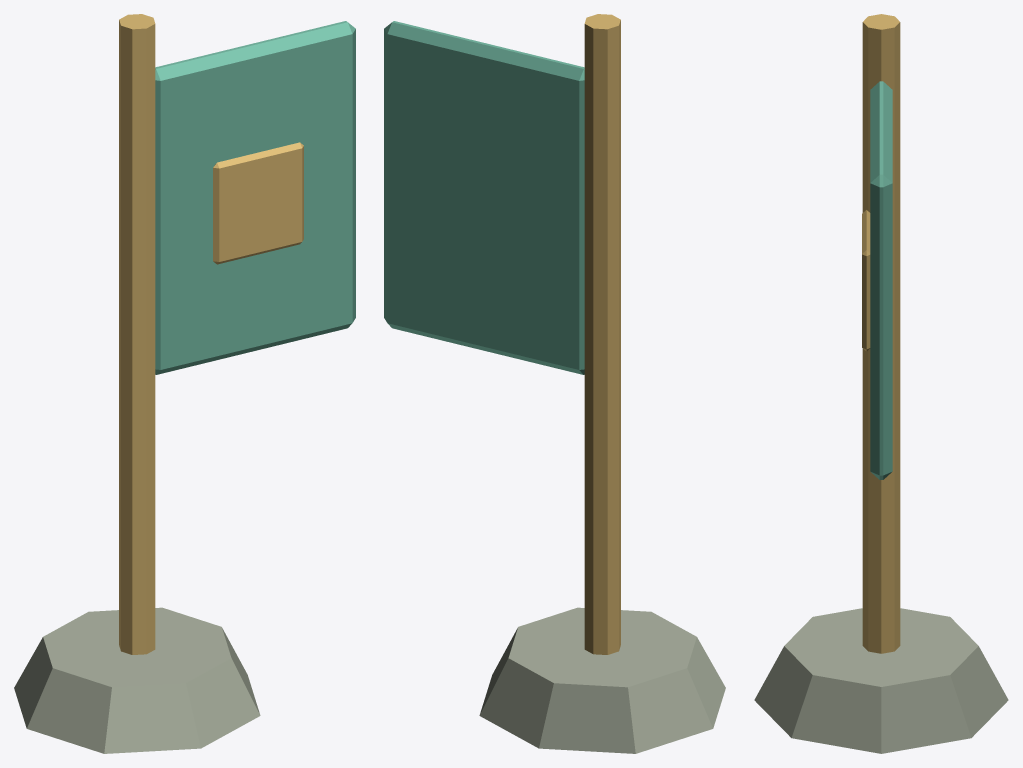
Rendered from qingqiu-banner.glb.
3 views of the same model, side by side, from view 1: azimuth 30°, elevation 25°; view 2: azimuth 150°, elevation 25°; view 3: azimuth 270°, elevation 25° (orthographic).
Parts seen in each view (by area): view 1: qingqiu-banner; view 2: qingqiu-banner; view 3: qingqiu-banner.
Part boxes in pixels (x1=…): qingqiu-banner: x1=14, y1=14, x2=355, y2=753; qingqiu-banner: x1=384, y1=14, x2=725, y2=753; qingqiu-banner: x1=754, y1=14, x2=1008, y2=753.
Size of the model in its own units: 1.01 by 2 by 0.68.
